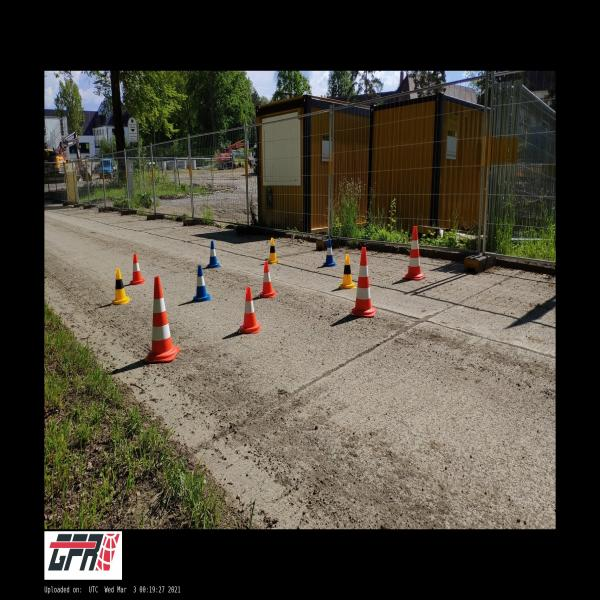blue_cone: (194, 265, 210, 302), (322, 239, 337, 266), (208, 241, 221, 268)
large_orange_cone: (145, 276, 180, 362), (350, 247, 376, 317), (402, 226, 425, 280)
orange_cone: (238, 287, 261, 334), (258, 262, 277, 298), (130, 255, 145, 284)
yellow_cone: (112, 268, 130, 304), (339, 254, 356, 288), (267, 238, 279, 264)
